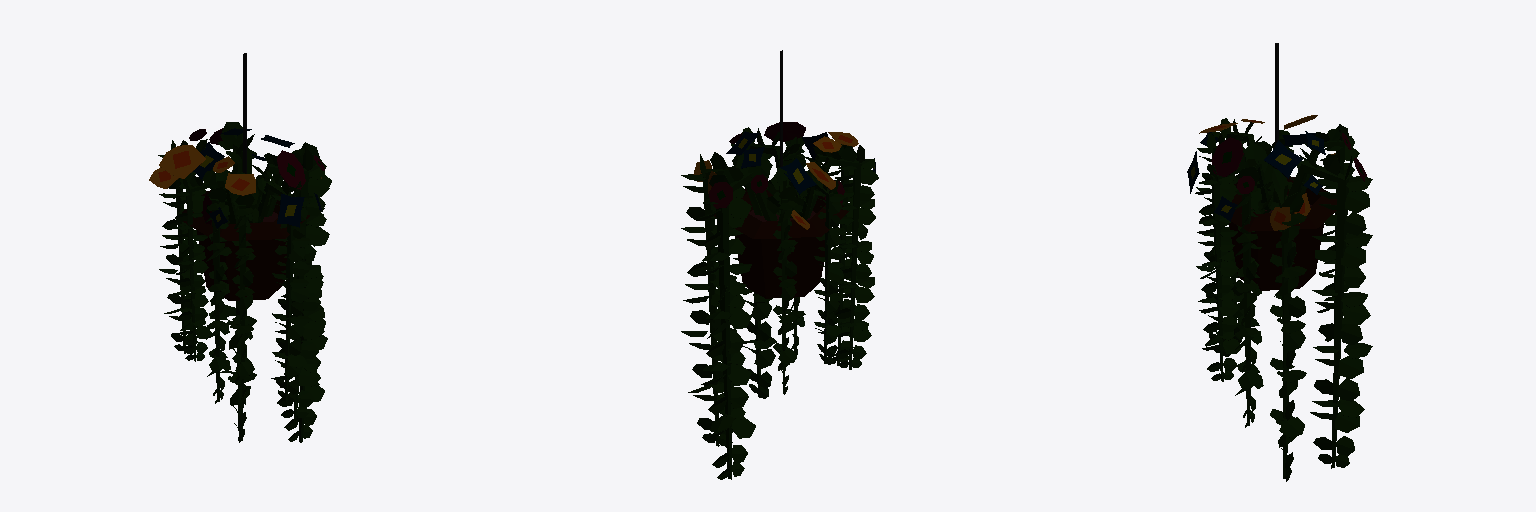
File: FlowerPot3.obj
3 views of the same model, side by side, from view 1: azimuth 30°, elevation 25°; view 2: azimuth 150°, elevation 25°; view 3: azimuth 270°, elevation 25° (orthographic).
Parts seen in each view (by area): view 1: FlowerPot3_Cube.080; view 2: FlowerPot3_Cube.080; view 3: FlowerPot3_Cube.080.
Boxes of the visible parts, x1=… form: FlowerPot3_Cube.080: x1=149, y1=53, x2=331, y2=442; FlowerPot3_Cube.080: x1=681, y1=50, x2=878, y2=479; FlowerPot3_Cube.080: x1=1187, y1=43, x2=1372, y2=481.
Size of the model in its own units: 0.9223 by 2.26 by 0.9186.